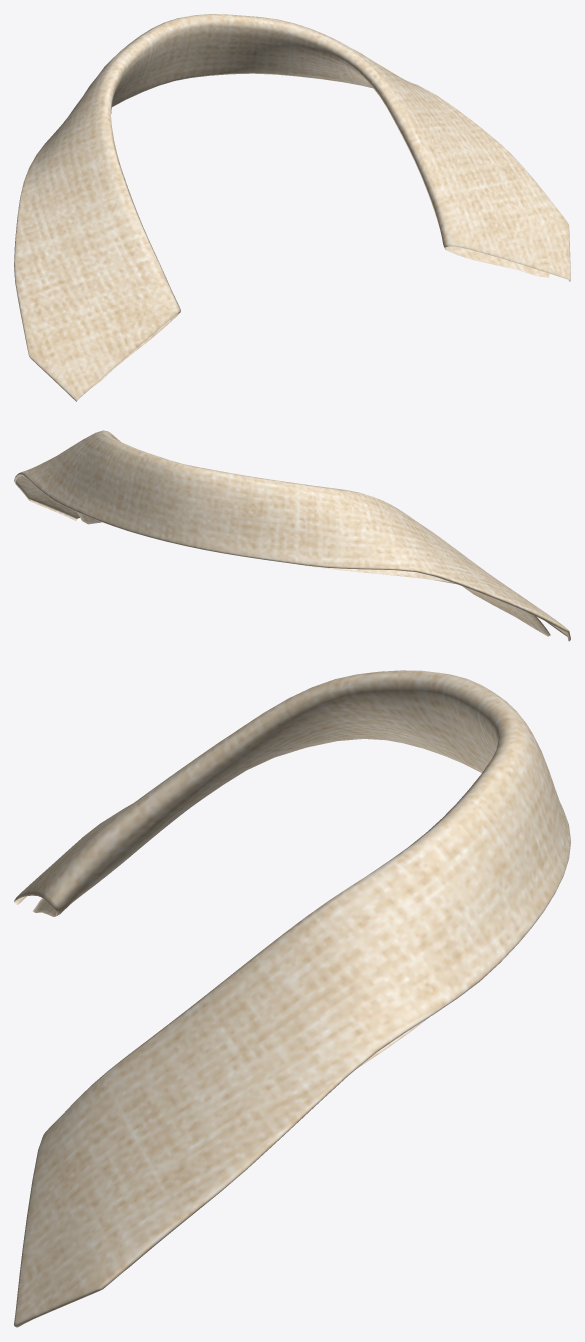
Rendered from notch_collar_wide.glb.
3 views of the same model, one above another, from view 1: azimuth 30°, elevation 25°; view 2: azimuth 150°, elevation 25°; view 3: azimuth 270°, elevation 25° (orthographic). The views are drawn at different scales.
Visible parts, largest first — view 1: notch_collar_wide1; view 2: notch_collar_wide1; view 3: notch_collar_wide1.
Part boxes in pixels (<box>): notch_collar_wide1: <box>14,14,570,401</box>; notch_collar_wide1: <box>14,430,570,641</box>; notch_collar_wide1: <box>14,670,570,1327</box>.
Size of the model in its own units: 0.0391 by 0.0152 by 0.0199.
1 material, 1 textured.
